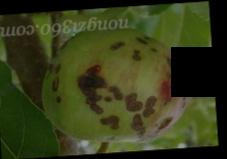rotten apple: (36, 28, 198, 149)
